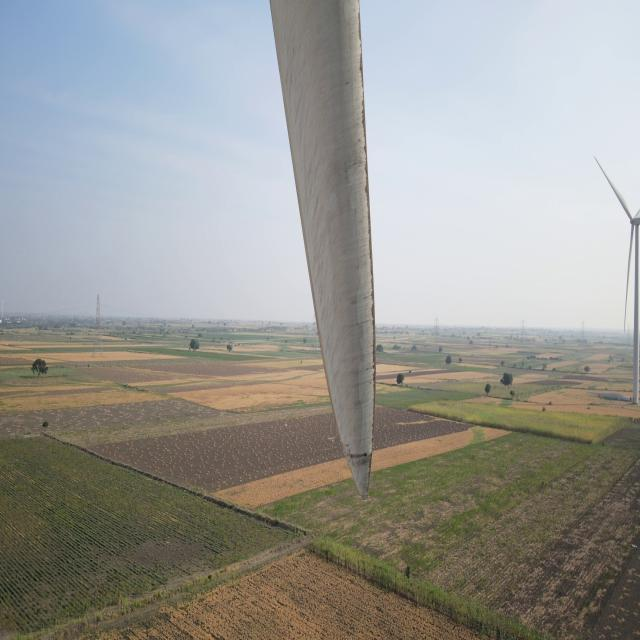Dirt: (265, 0, 379, 503)
Pin Hole: (346, 448, 373, 463)
